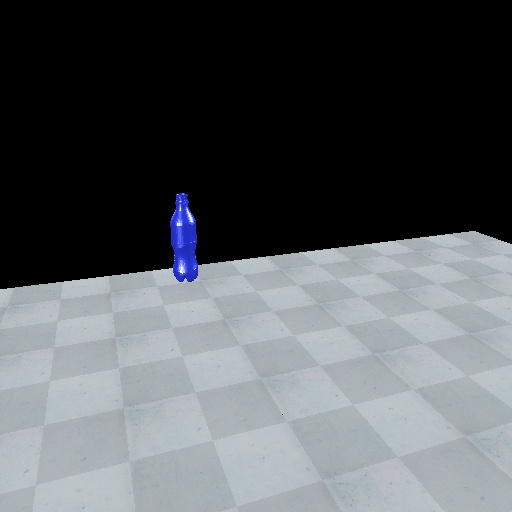bottle: (165, 190, 201, 286)
